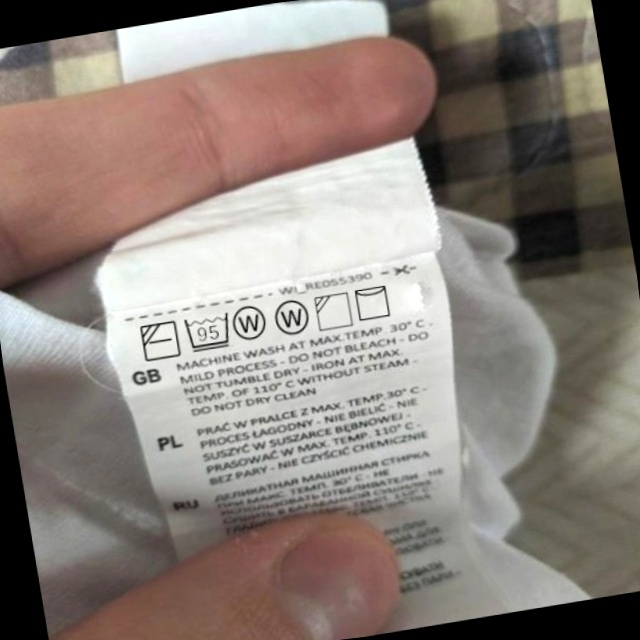95C: (181, 309, 235, 354)
dry_flat_in_shade: (137, 316, 183, 365)
line_dry: (351, 280, 396, 324)
shade_dry: (312, 289, 356, 334)
wet_clean: (230, 299, 272, 344), (271, 296, 313, 340)
